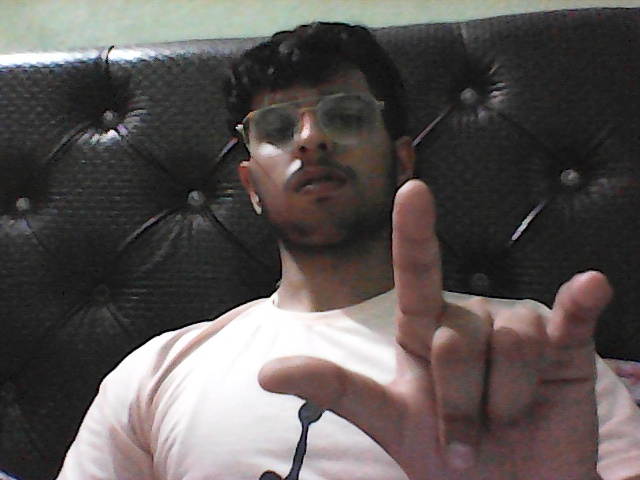iloveyou: (256, 162, 636, 480)
